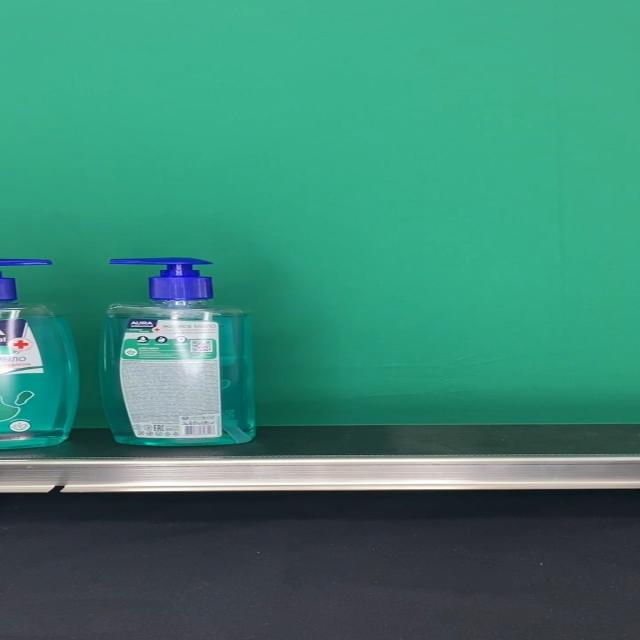Bottle: (101, 257, 256, 445)
Cap: (110, 258, 213, 300)
